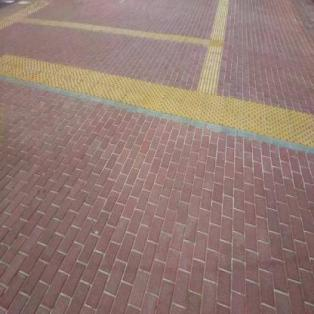Podoctatil: (1, 0, 312, 147)
